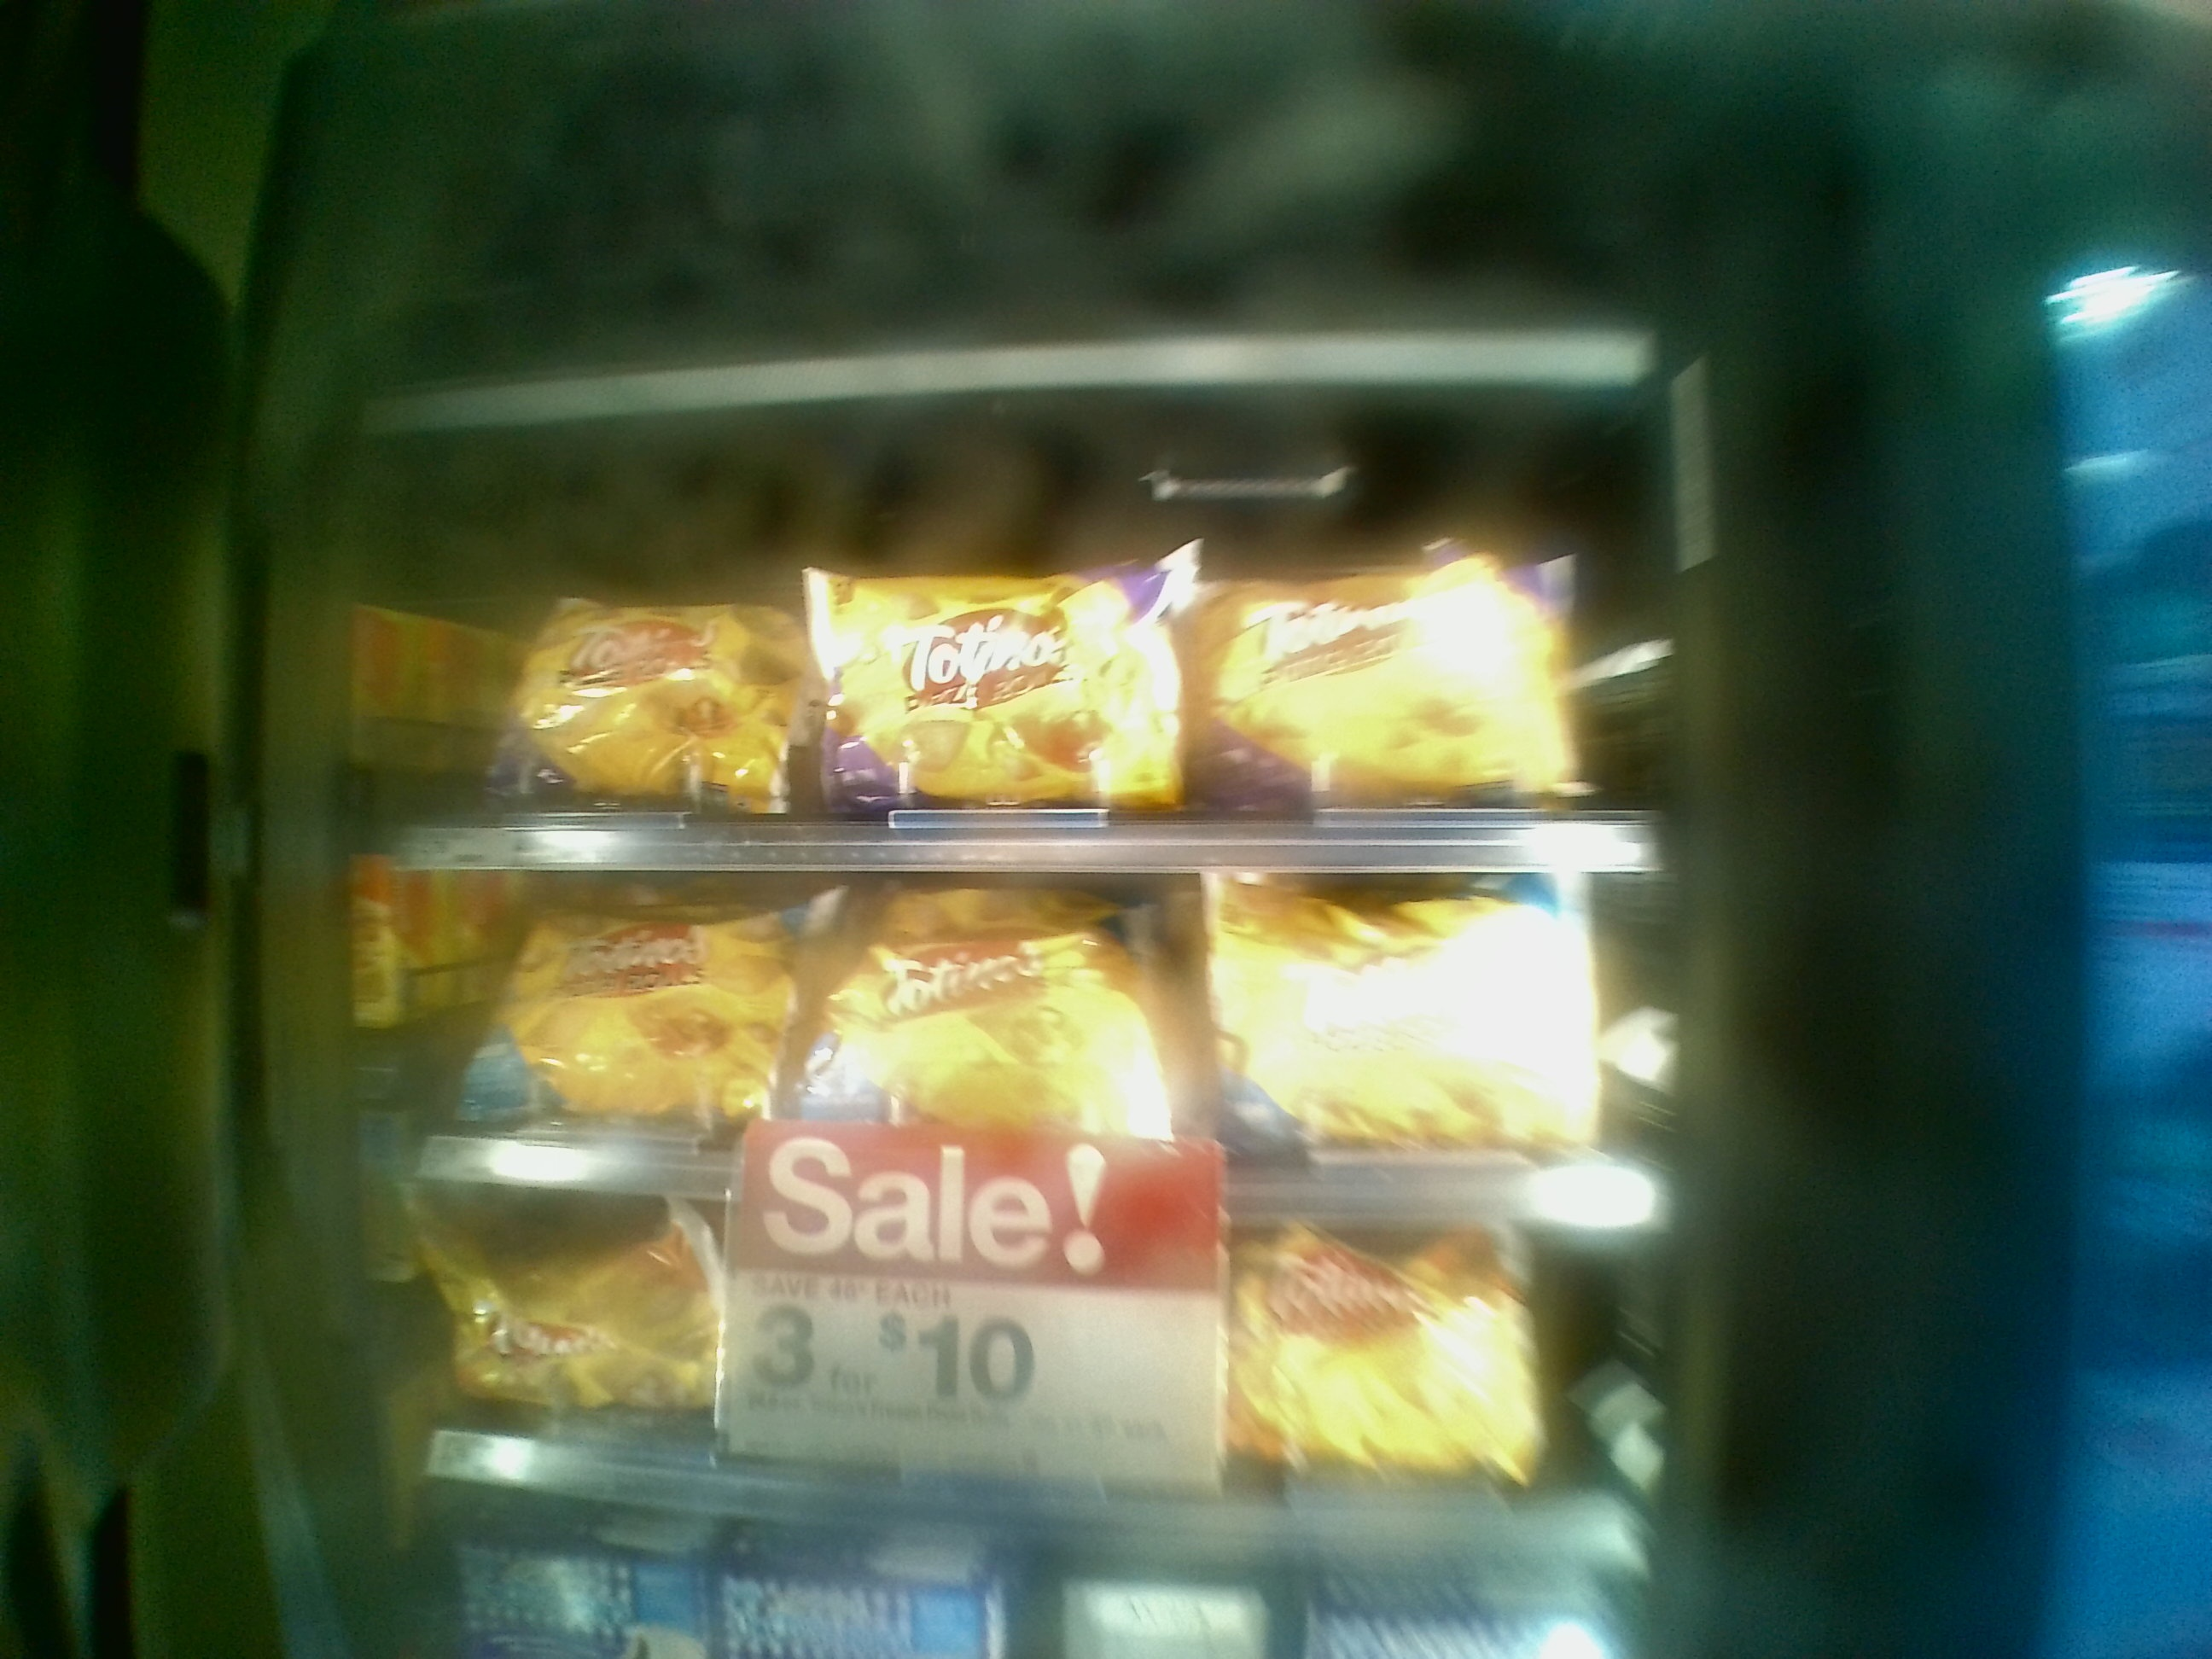shelf: (374, 1148, 1627, 1549), (380, 840, 1649, 1208), (366, 507, 1639, 849)
